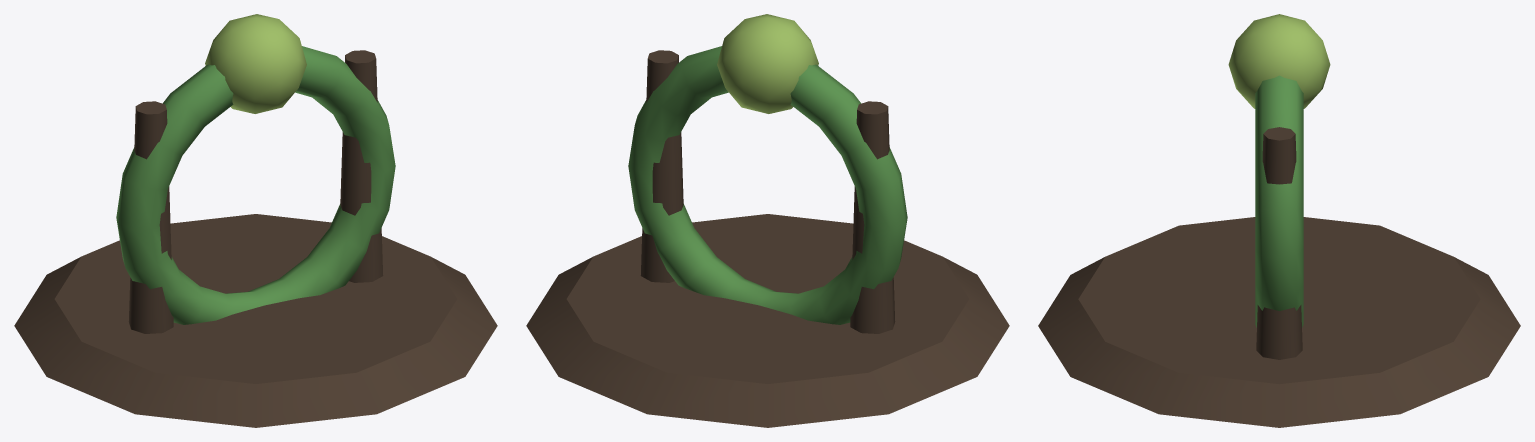
The model's file is pond_nest.glb.
3 renders of one model, left to right at view 1: azimuth 30°, elevation 25°; view 2: azimuth 150°, elevation 25°; view 3: azimuth 270°, elevation 25°, orthographic.
Parts seen in each view (by area): view 1: habitat_base, habitat_bowl, habitat_marker, habitat_post_-1, habitat_post_1; view 2: habitat_base, habitat_bowl, habitat_marker, habitat_post_-1, habitat_post_1; view 3: habitat_base, habitat_bowl, habitat_marker, habitat_post_1.
Boxes of the visible parts, x1,y1,x2,y2 form: habitat_base: (14, 214, 497, 427); habitat_bowl: (116, 46, 395, 324); habitat_marker: (205, 14, 306, 113); habitat_post_-1: (128, 101, 173, 333); habitat_post_1: (340, 50, 383, 282); habitat_base: (526, 214, 1009, 427); habitat_bowl: (628, 46, 907, 324); habitat_marker: (717, 14, 818, 113); habitat_post_-1: (850, 101, 895, 333); habitat_post_1: (640, 50, 683, 282); habitat_base: (1038, 217, 1520, 427); habitat_bowl: (1255, 75, 1303, 327); habitat_marker: (1228, 14, 1330, 108); habitat_post_1: (1256, 127, 1302, 359).
Size of what is drawn, in the model's own units: 3.6 by 2.61 by 3.6.
